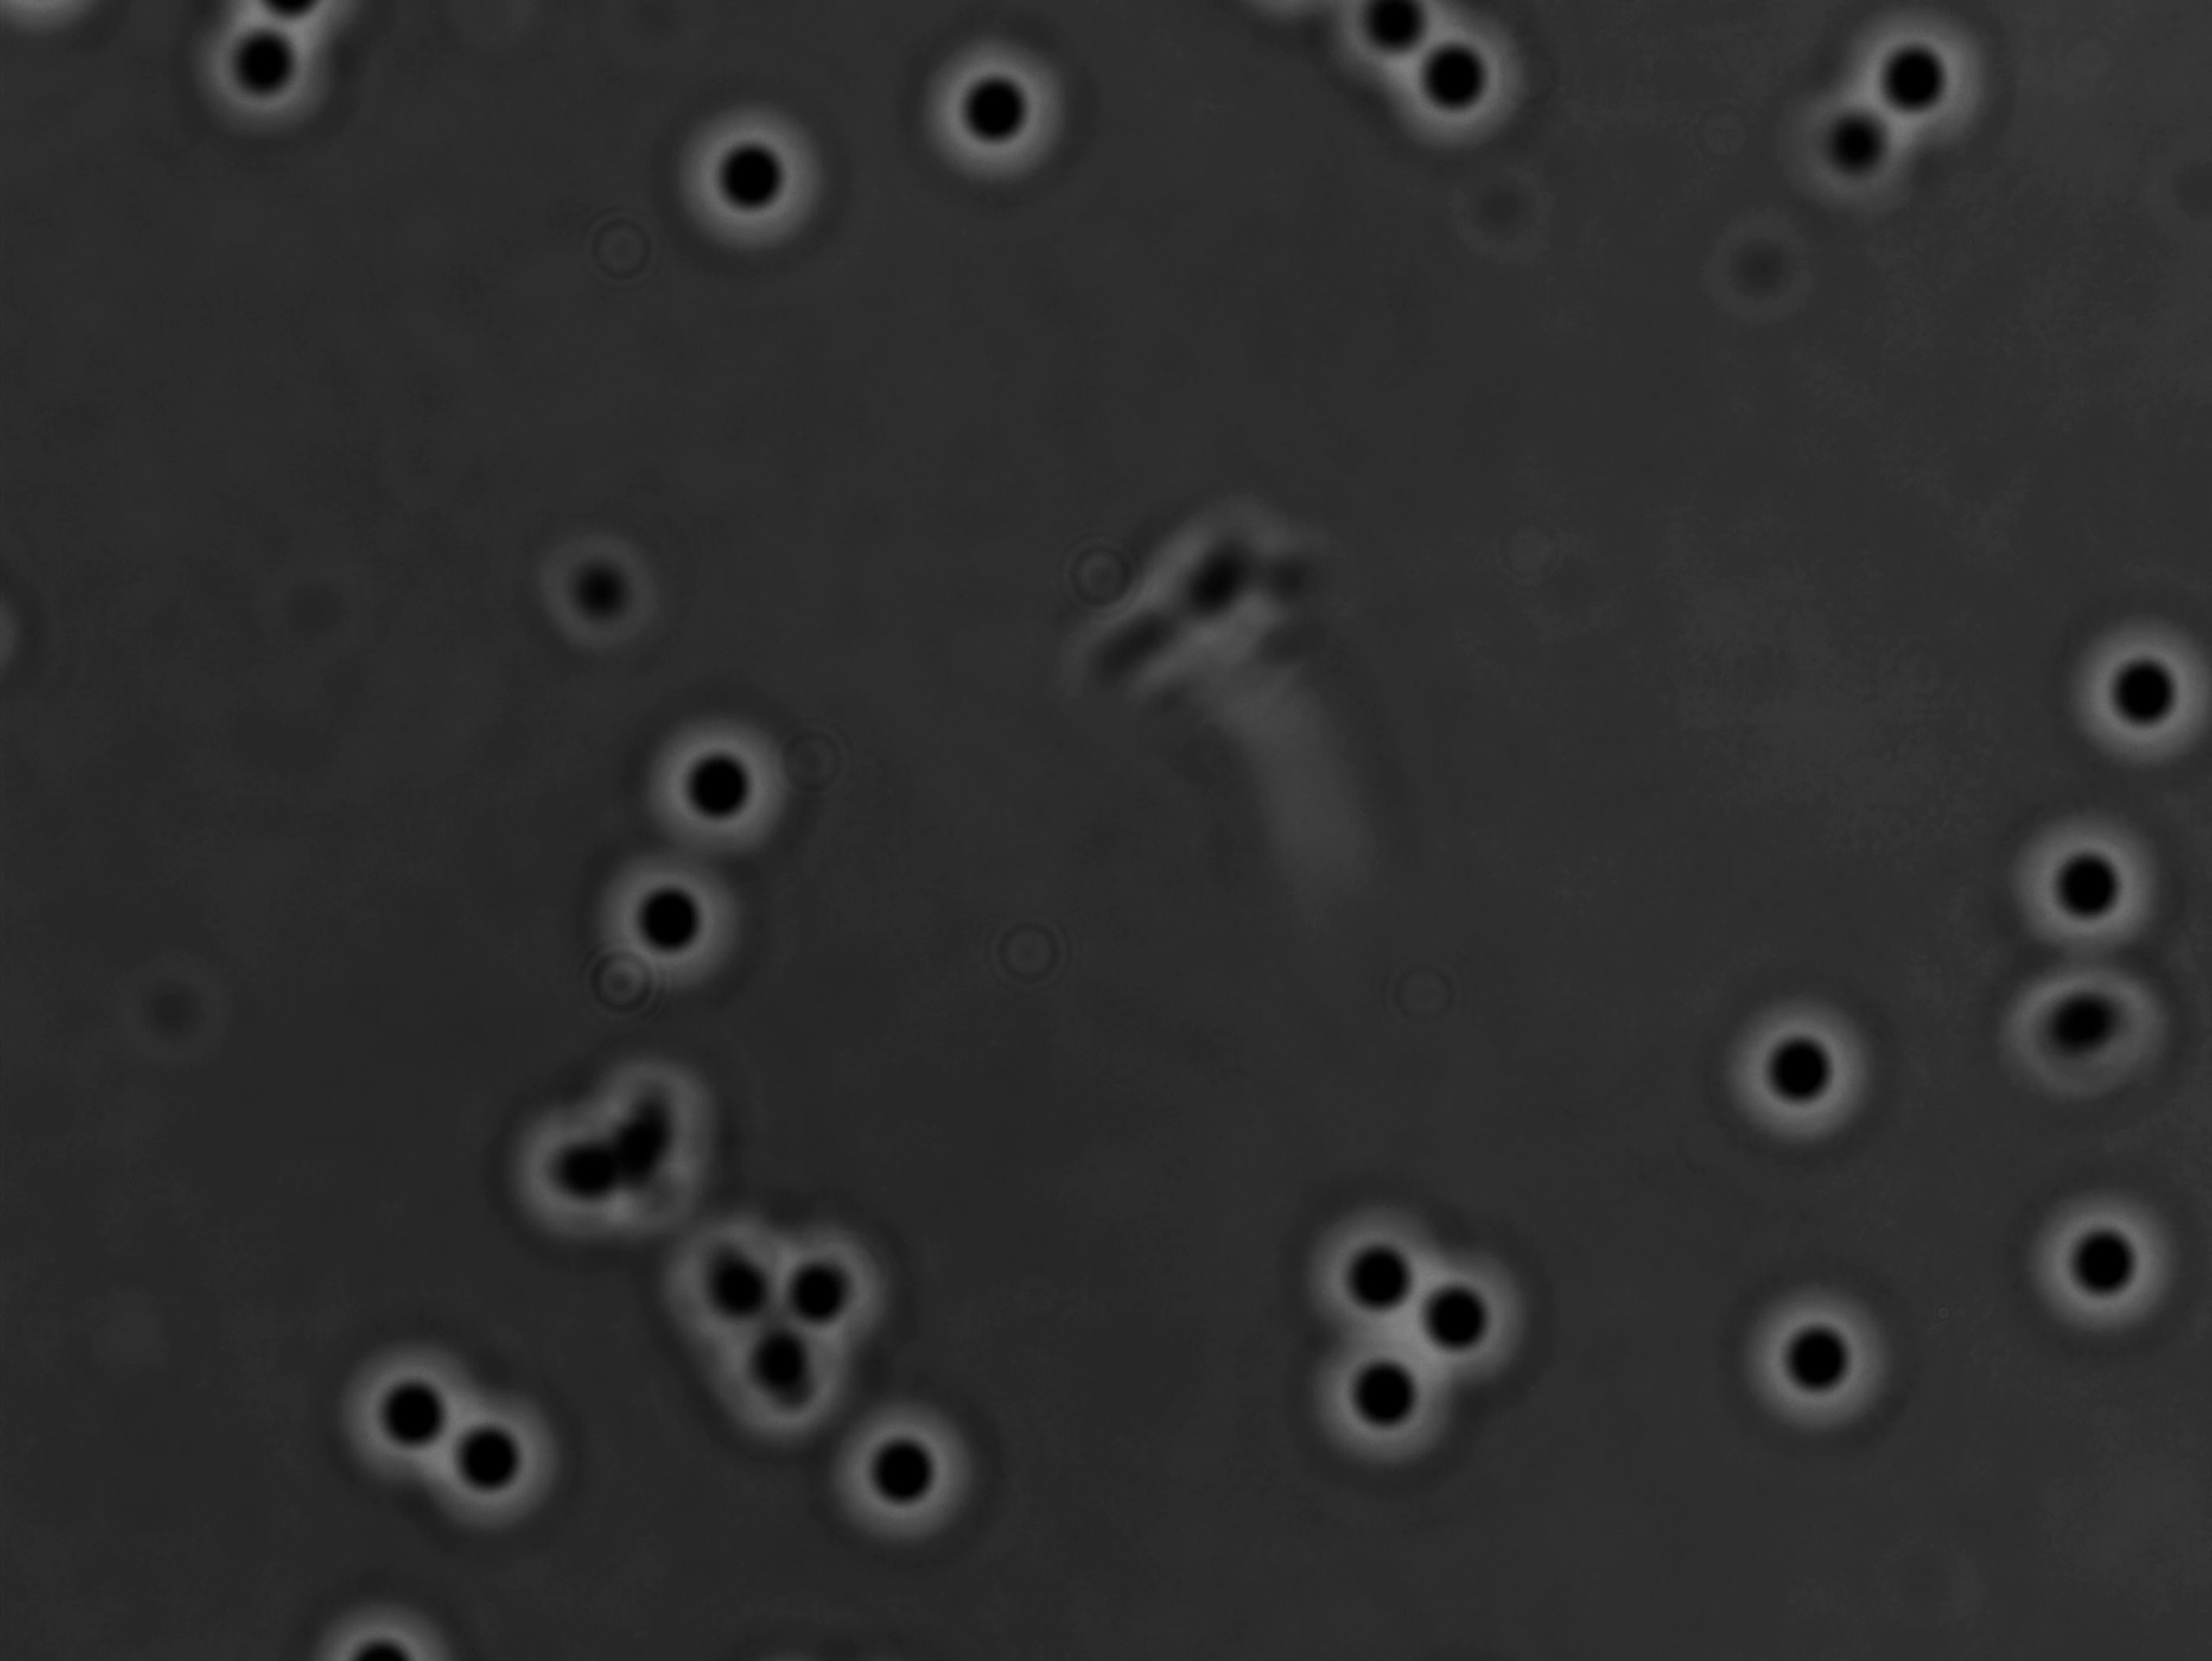depth:-80: (330, 1319, 515, 1506), (405, 1375, 591, 1544), (806, 1384, 994, 1551), (630, 696, 808, 871), (673, 94, 846, 270), (1713, 1000, 1893, 1169), (2050, 597, 2212, 783), (1990, 811, 2175, 974), (1380, 3, 1556, 167), (572, 839, 747, 1001), (1739, 1281, 1898, 1455), (1291, 1192, 1455, 1354), (919, 35, 1085, 195), (2010, 1186, 2175, 1340), (1307, 1328, 1472, 1480), (1375, 1232, 1539, 1384)
